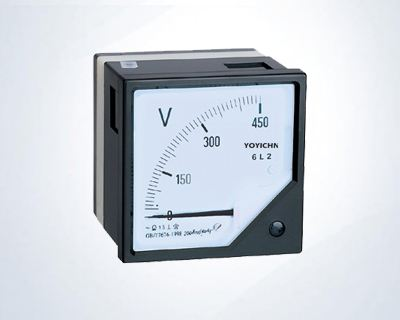pointer: (133, 82, 296, 249)
